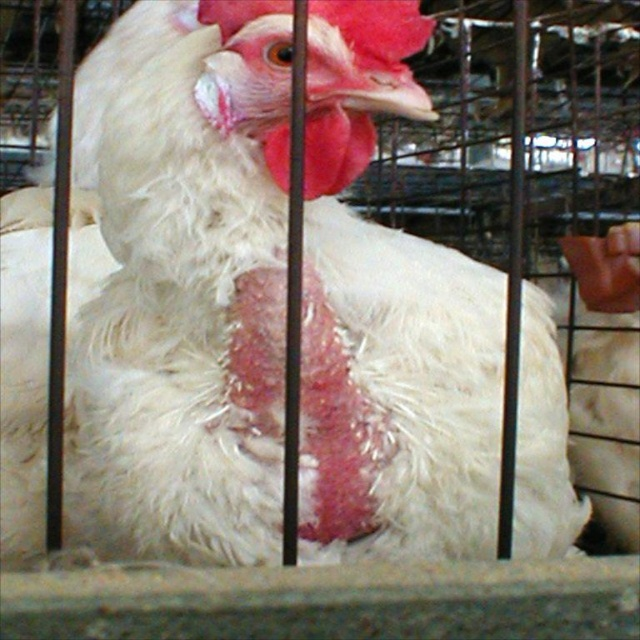Chicken: (35, 0, 576, 543)
